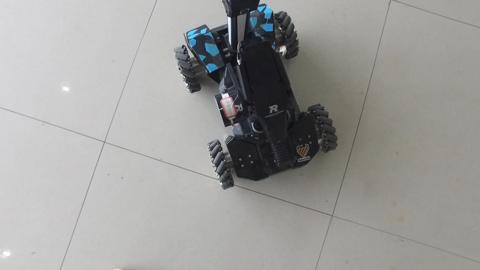chariot: (169, 2, 331, 195)
